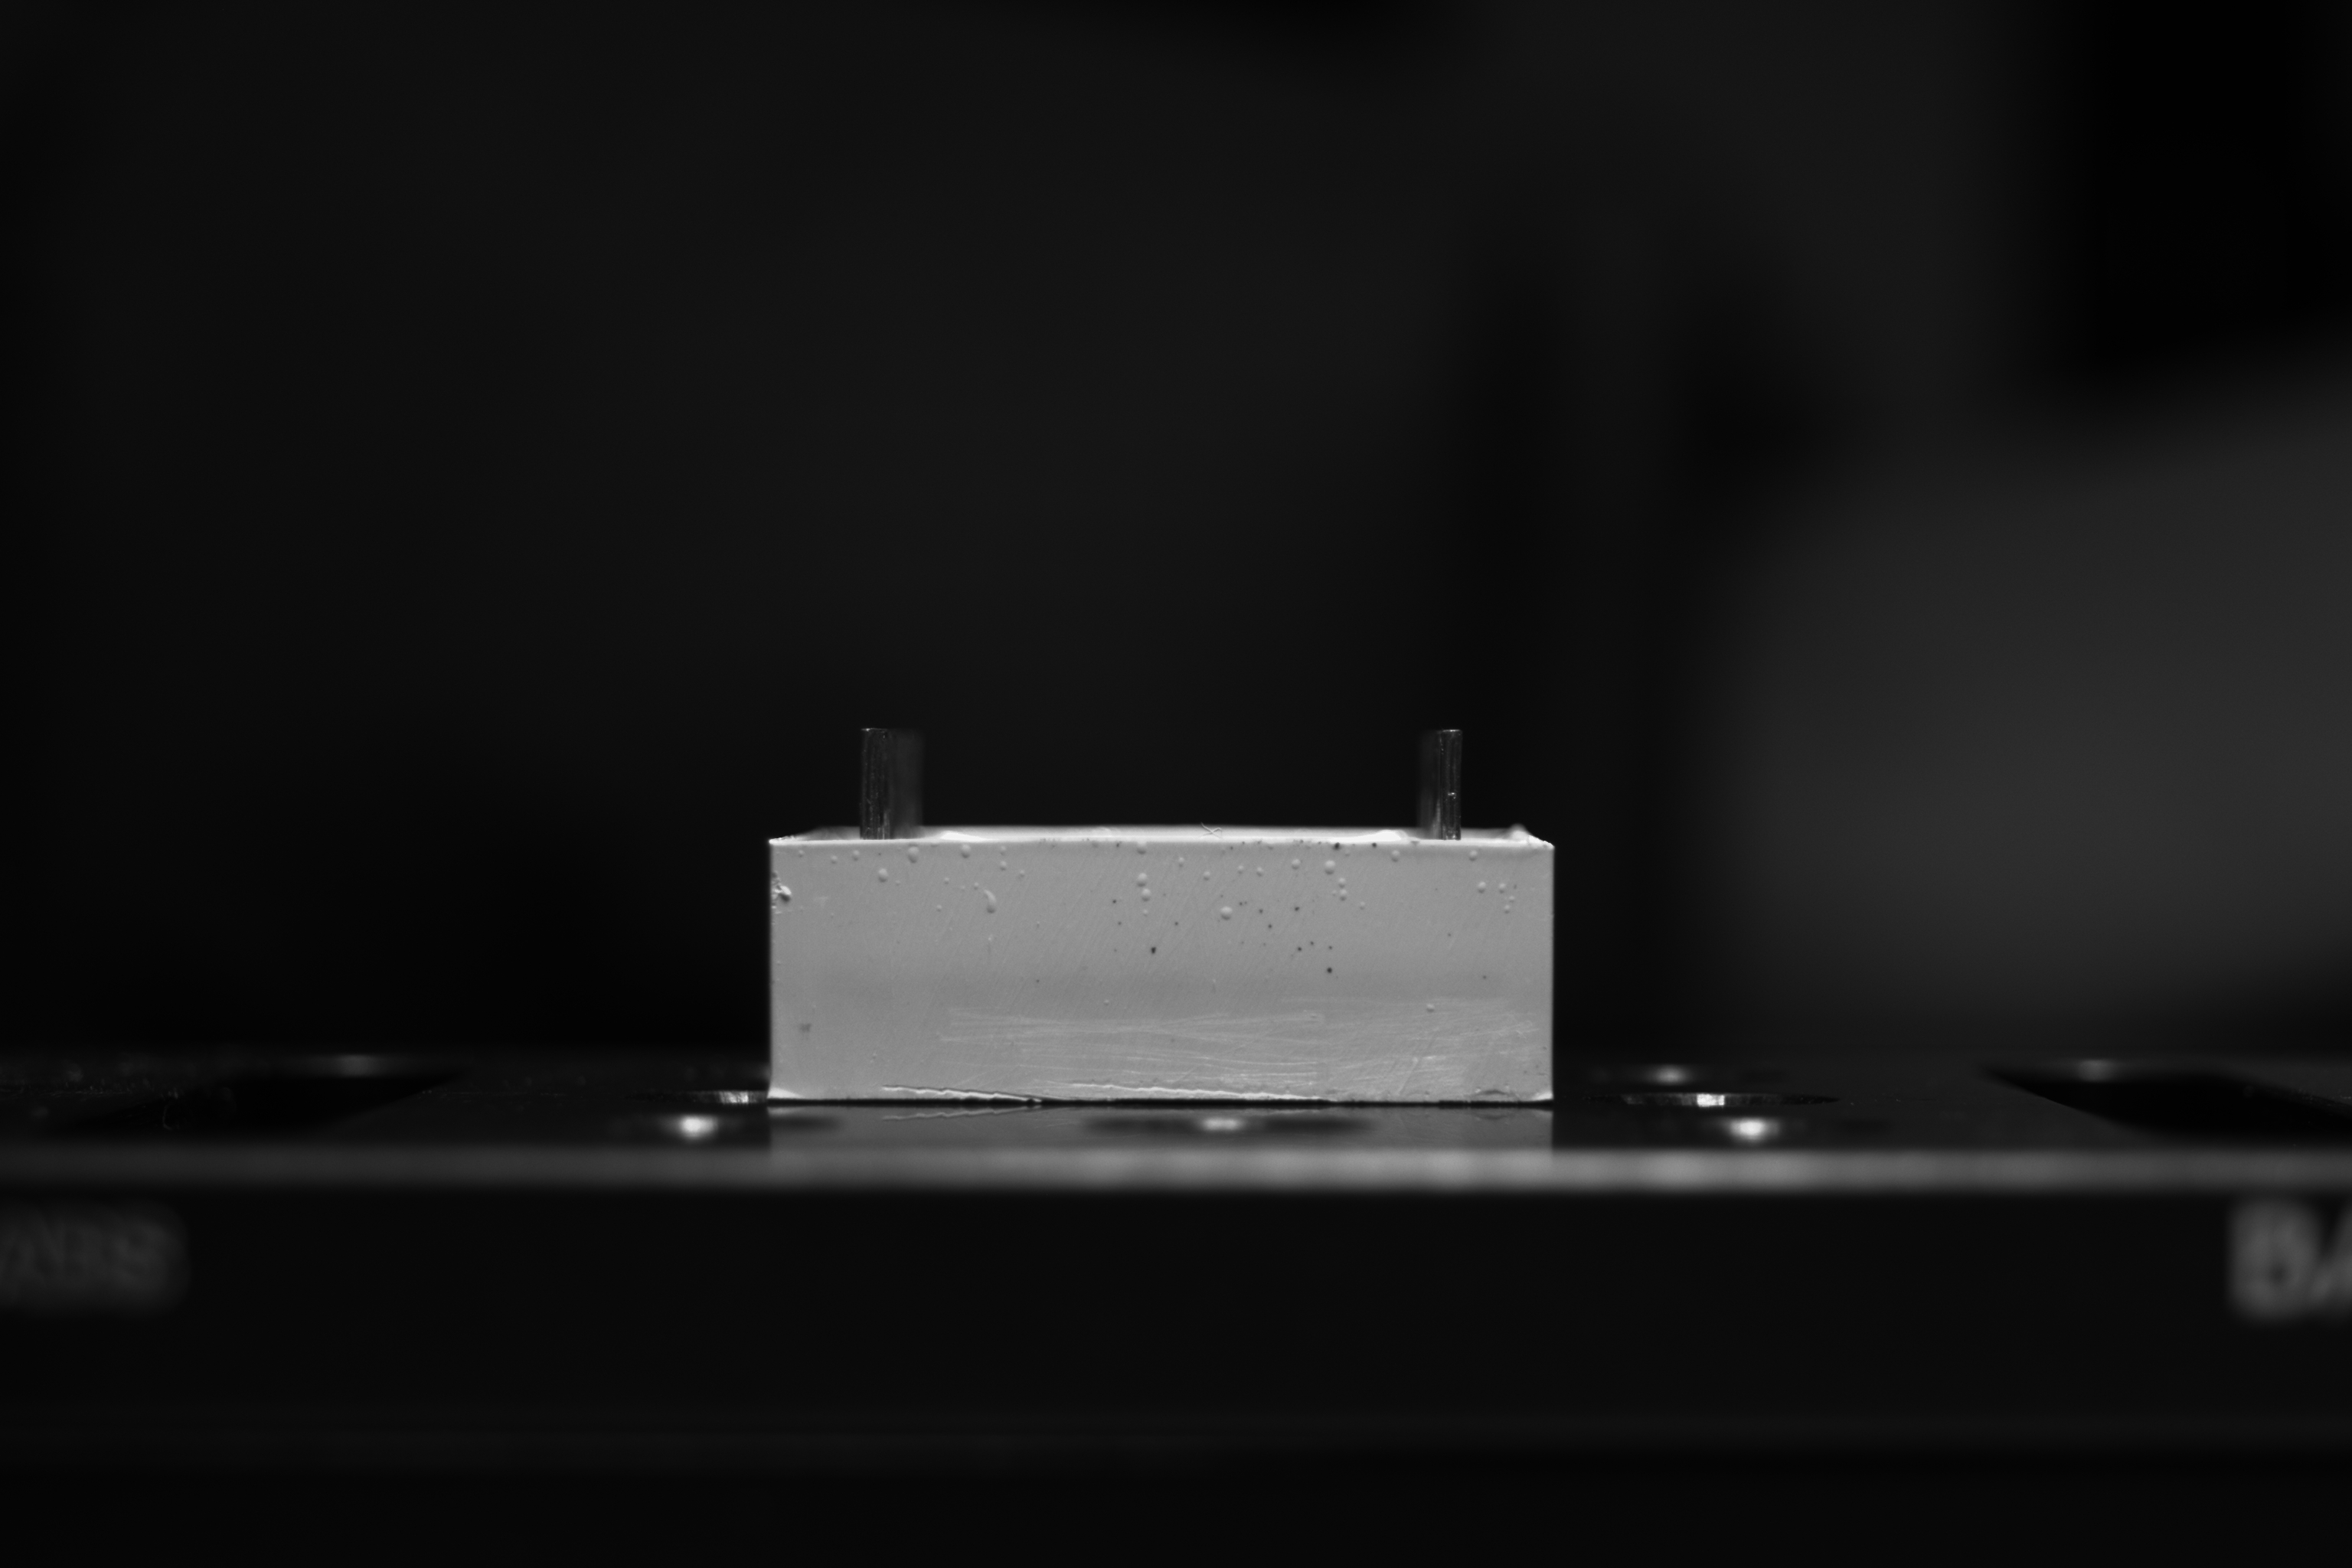glue: (1134, 870, 1153, 919), (772, 868, 796, 906), (1500, 880, 1519, 915), (982, 887, 1003, 917), (955, 840, 976, 863), (1463, 843, 1482, 868), (875, 863, 894, 884), (1218, 901, 1235, 924), (905, 843, 922, 866), (1472, 875, 1489, 898), (1335, 877, 1349, 901), (826, 850, 843, 870), (1323, 856, 1339, 877), (1134, 840, 1150, 856), (1389, 847, 1403, 864), (1200, 866, 1214, 884), (1174, 852, 1186, 871), (933, 901, 948, 915), (1354, 899, 1370, 913), (1424, 999, 1437, 1017), (997, 842, 1010, 857), (1234, 861, 1246, 877), (1291, 856, 1304, 871), (941, 873, 954, 887), (850, 849, 863, 863), (1018, 866, 1029, 882), (794, 849, 808, 859), (1256, 863, 1265, 878), (1101, 996, 1111, 1008), (969, 878, 980, 891), (997, 859, 1008, 871)
